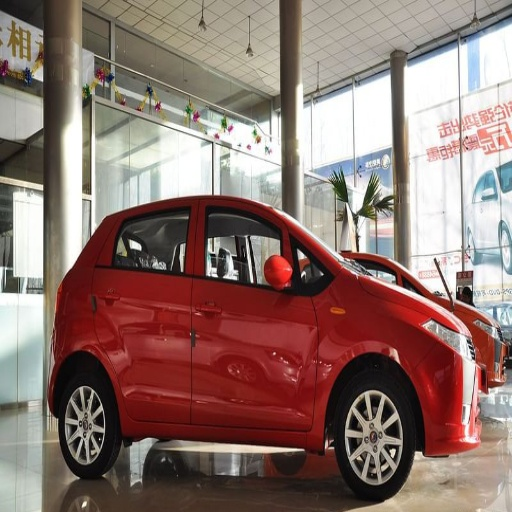back_left_light: (433, 304, 484, 387)
